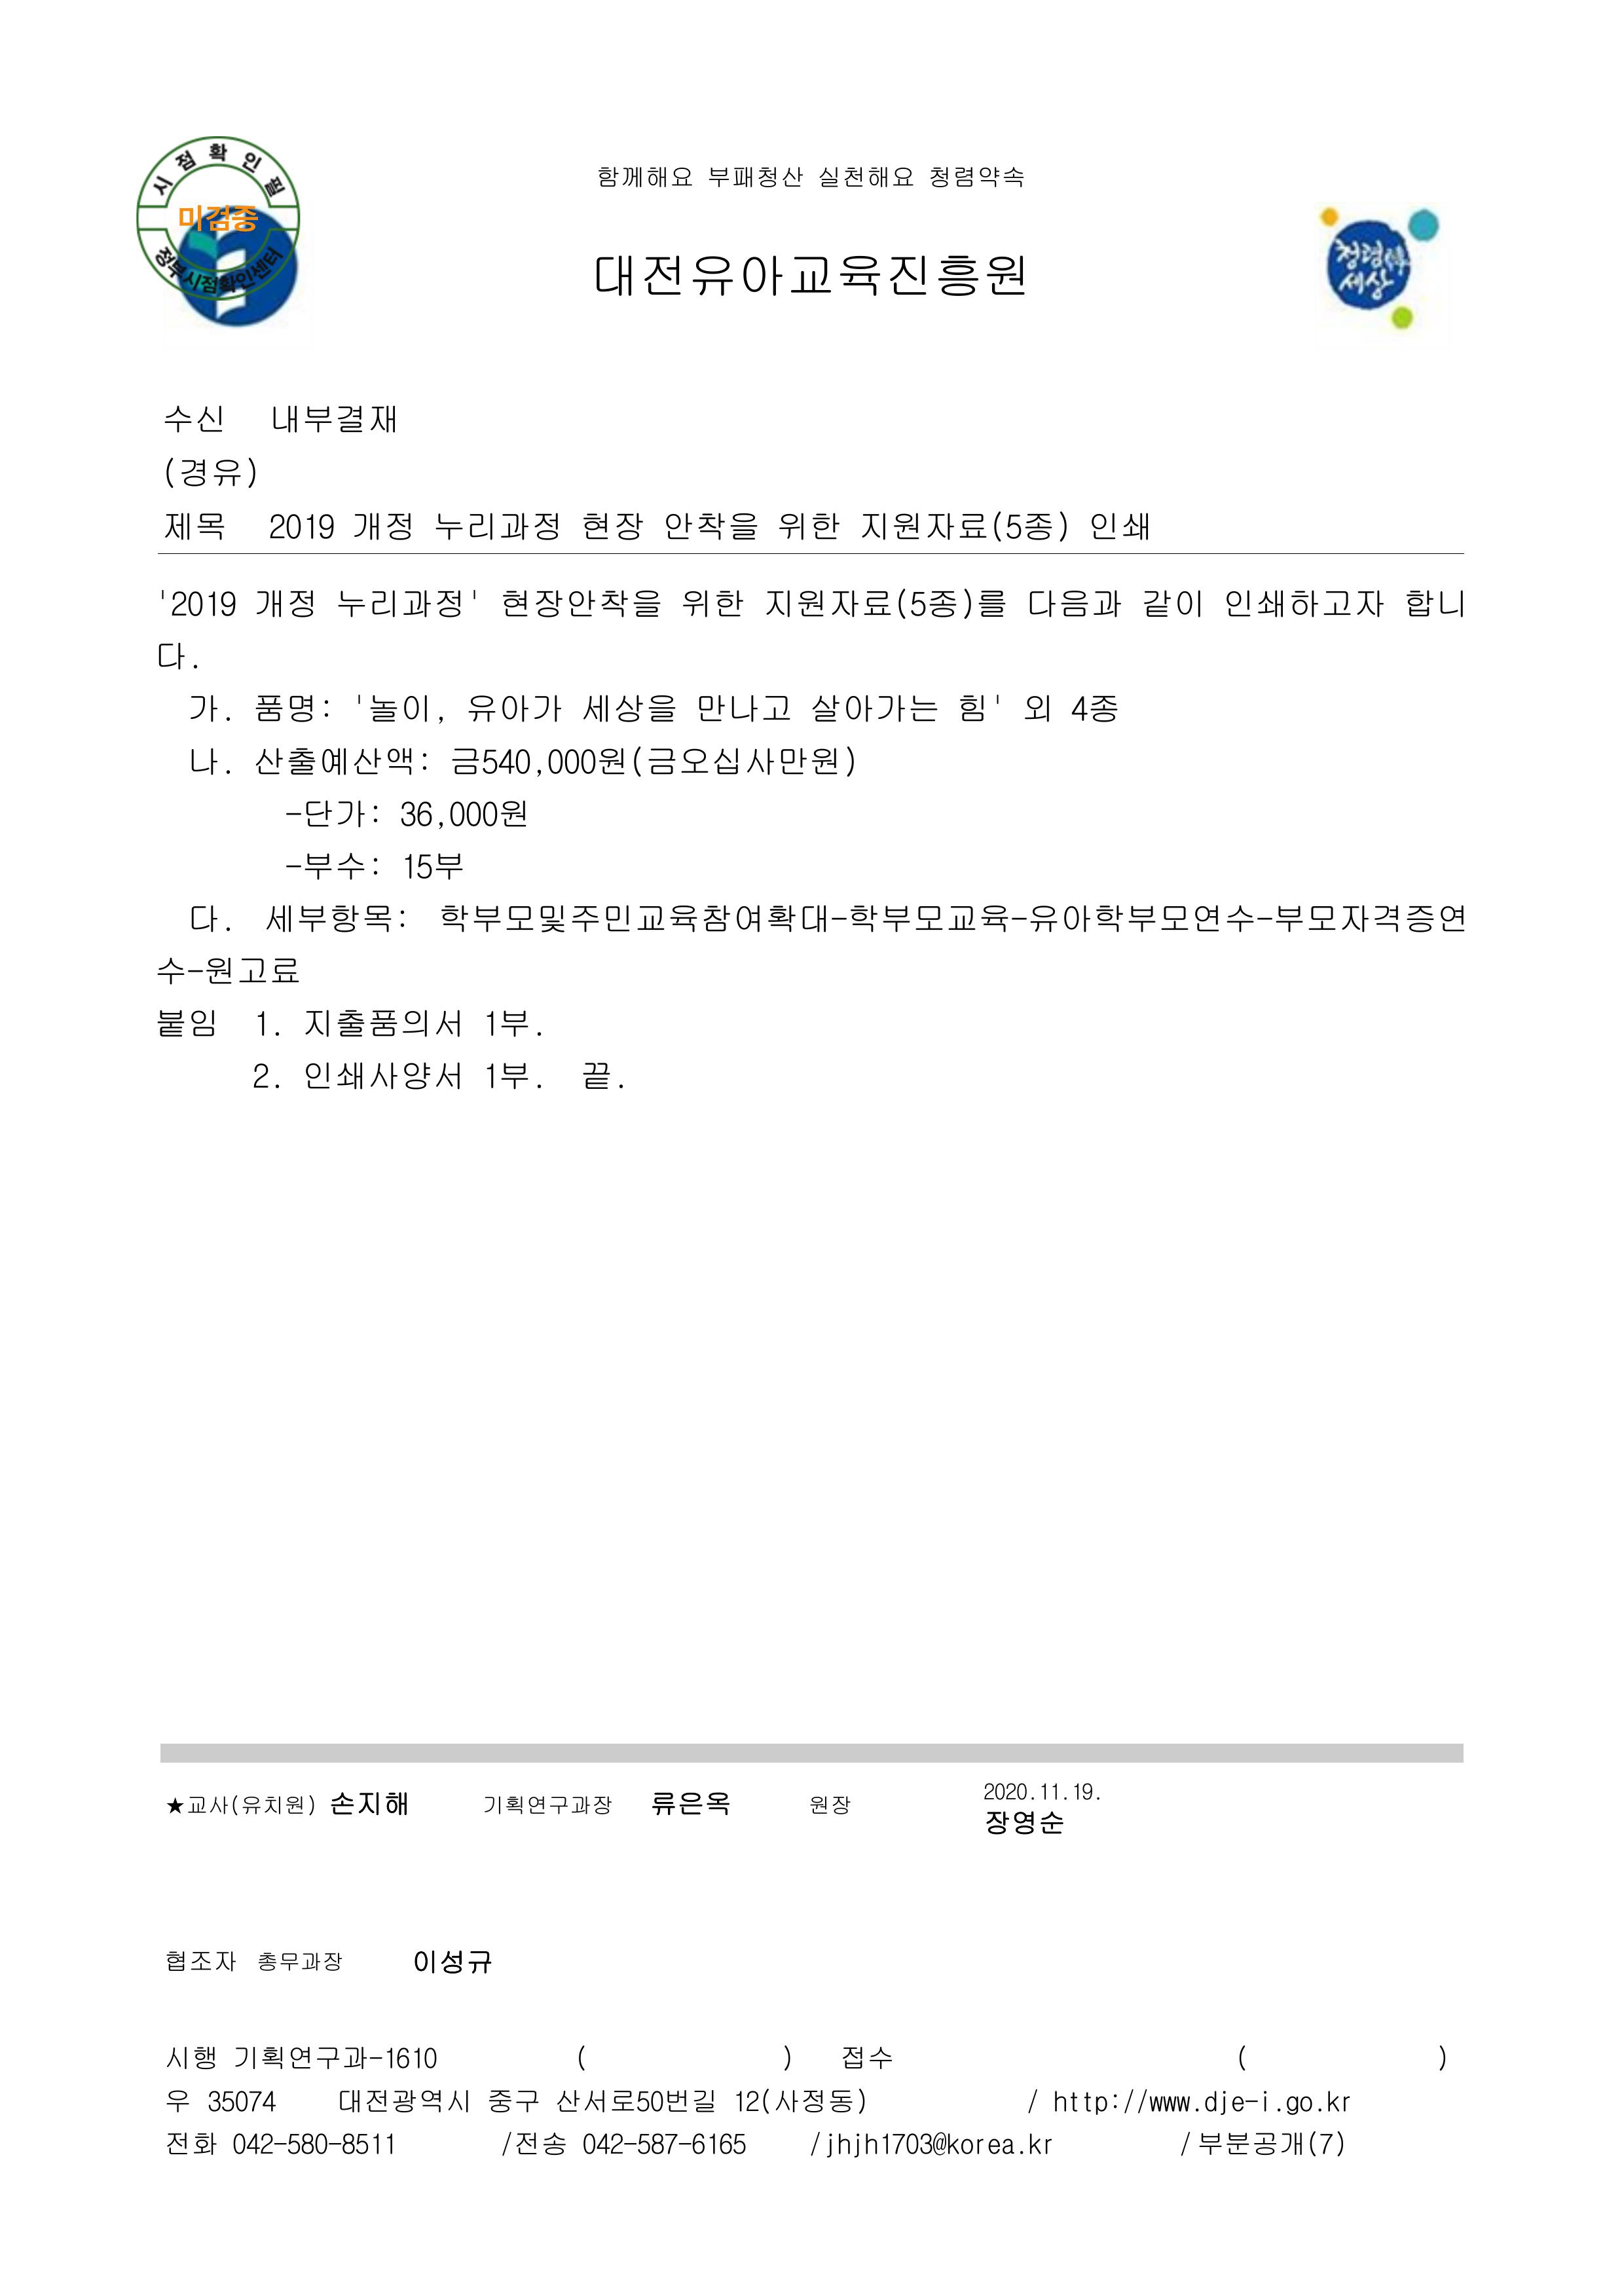t: (438, 900, 1466, 938), (591, 251, 1028, 304), (761, 583, 1004, 624), (624, 742, 861, 778), (856, 510, 1069, 545), (803, 2126, 1014, 2158), (255, 742, 431, 778), (297, 1003, 462, 1040), (499, 583, 663, 620), (1223, 583, 1383, 620), (301, 1058, 462, 1093), (552, 2082, 717, 2116), (576, 2126, 749, 2158), (228, 2126, 397, 2158), (810, 685, 940, 724), (265, 900, 408, 935), (334, 583, 469, 620), (286, 2040, 441, 2072), (1193, 2126, 1348, 2158), (728, 2082, 872, 2116), (269, 401, 397, 438), (334, 2082, 473, 2116), (431, 510, 562, 545), (156, 954, 297, 986), (156, 455, 262, 490), (1025, 583, 1125, 620), (169, 1792, 318, 1817), (580, 689, 673, 728), (659, 510, 761, 545), (466, 691, 562, 728), (696, 689, 793, 724), (448, 742, 538, 778), (480, 1792, 613, 1817), (707, 162, 807, 193), (924, 162, 1025, 193), (176, 200, 258, 237), (545, 742, 627, 778), (255, 691, 334, 728), (301, 796, 383, 831), (408, 1944, 490, 1979), (814, 162, 914, 190), (366, 691, 441, 728), (448, 796, 527, 831), (286, 849, 369, 882), (649, 1785, 731, 1817), (169, 583, 239, 620), (265, 510, 337, 545), (204, 2082, 279, 2116), (678, 583, 745, 620), (348, 510, 417, 545), (1141, 583, 1206, 620), (327, 1789, 411, 1817), (251, 583, 315, 620), (1403, 583, 1466, 620), (162, 510, 227, 545), (580, 510, 645, 545), (1051, 2088, 1123, 2119), (156, 1003, 218, 1040), (162, 401, 227, 434), (397, 849, 462, 882), (773, 510, 842, 541), (258, 1951, 344, 1975), (1086, 510, 1151, 541), (480, 1007, 538, 1040), (483, 2082, 541, 2116), (483, 1058, 538, 1093), (1200, 2089, 1272, 2116), (228, 2040, 286, 2072), (165, 1951, 239, 1975), (1065, 691, 1118, 724), (982, 1806, 1035, 1840), (838, 2040, 893, 2072), (499, 2133, 566, 2158), (162, 2044, 218, 2072), (642, 162, 696, 190), (186, 691, 232, 724), (186, 742, 227, 778), (1137, 2089, 1193, 2116), (397, 796, 438, 831), (186, 900, 227, 935), (576, 1058, 617, 1093), (596, 162, 645, 190), (165, 2133, 221, 2158), (155, 638, 193, 671), (953, 691, 990, 724), (1021, 691, 1058, 724), (1272, 2095, 1316, 2119), (982, 1782, 1028, 1803), (1035, 1806, 1065, 1836), (810, 1796, 849, 1817), (255, 1010, 279, 1040), (1025, 2133, 1055, 2158), (255, 1061, 276, 1093), (1035, 1782, 1065, 1803), (1069, 1782, 1097, 1803), (1323, 2095, 1352, 2116), (169, 2089, 190, 2112)
